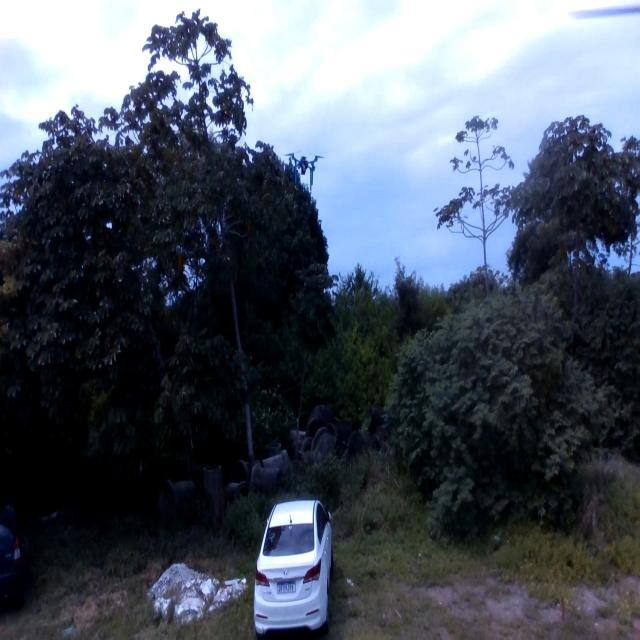-uav-: (279, 139, 329, 198)
